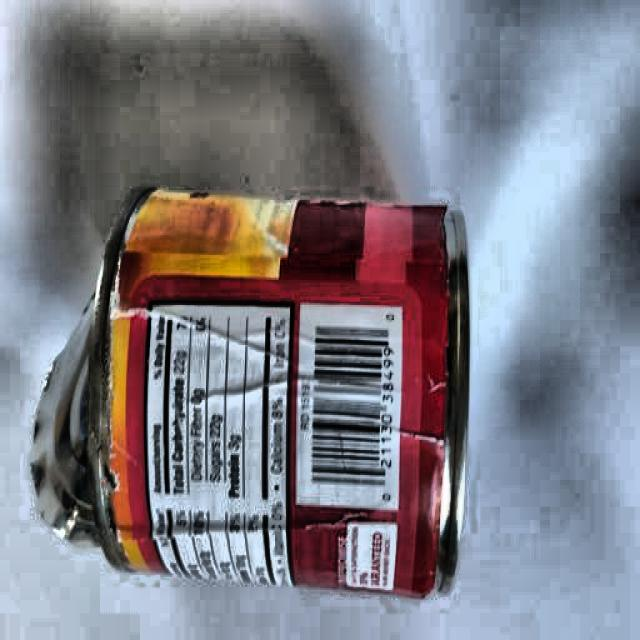metal: (28, 182, 470, 607)
